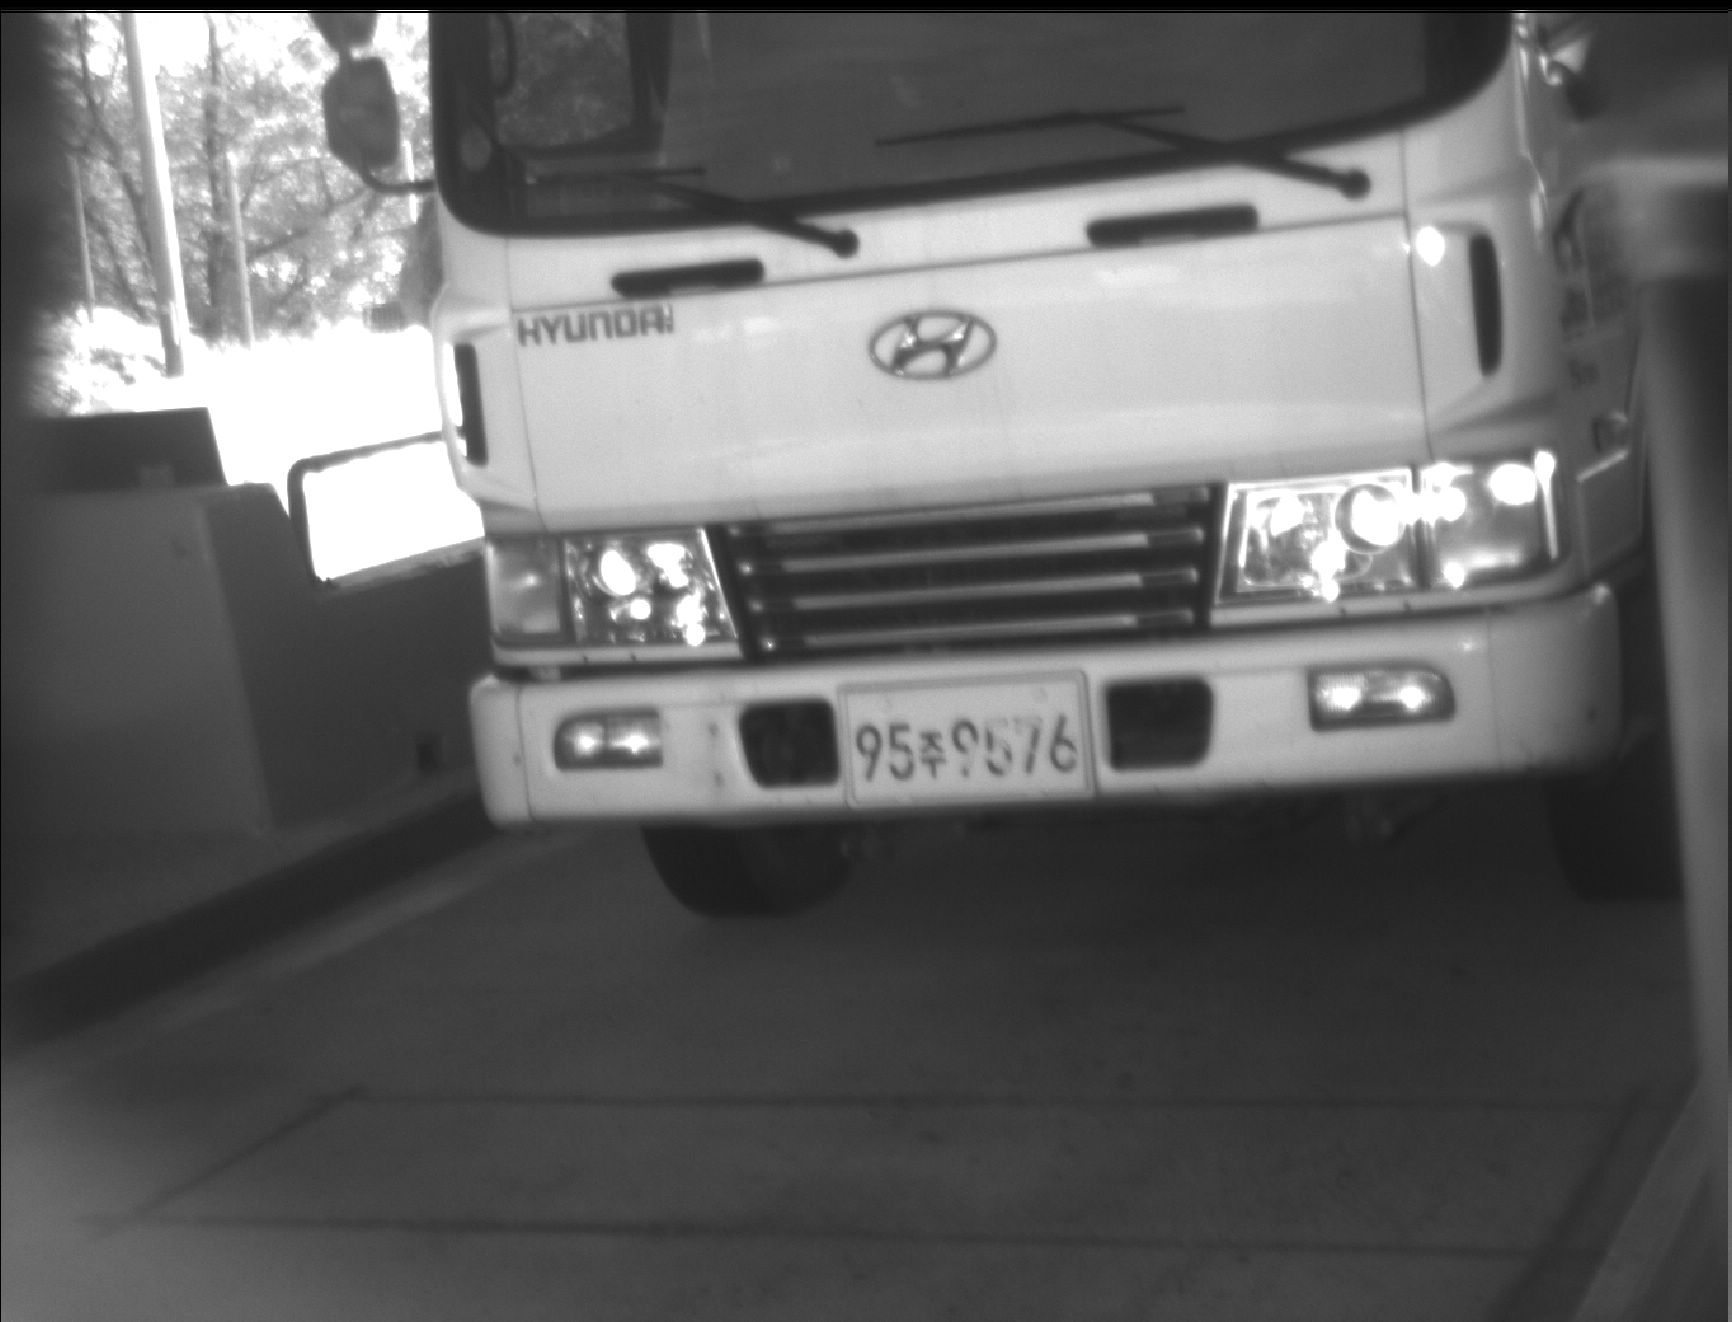car: (305, 4, 1636, 920)
plate: (834, 671, 1105, 811)
